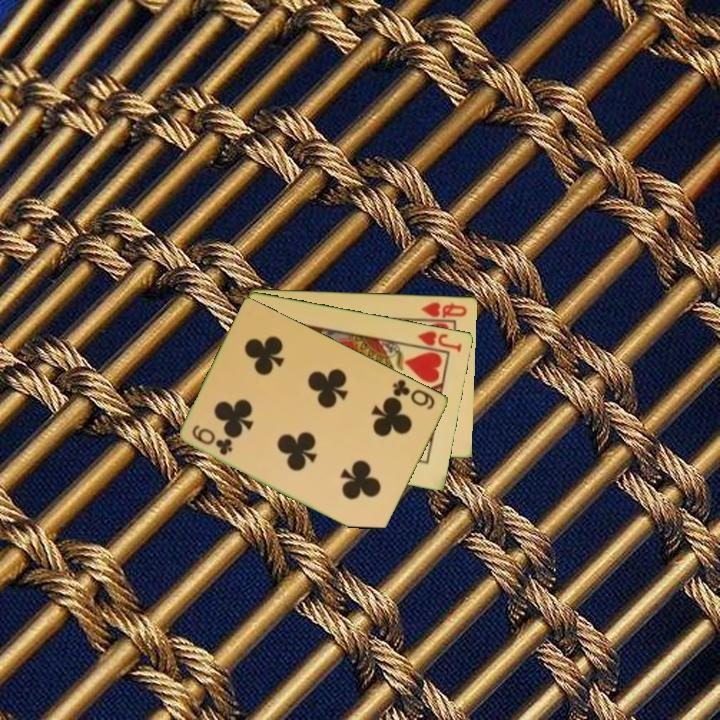6c: (389, 375, 438, 413), (189, 421, 236, 458)
Jh: (408, 327, 465, 355)
Qh: (418, 298, 470, 321)
